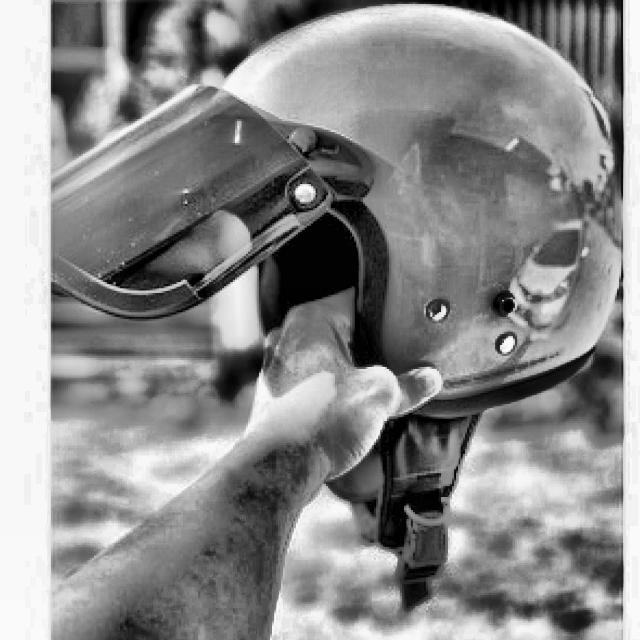Helmet: (42, 0, 628, 608)
